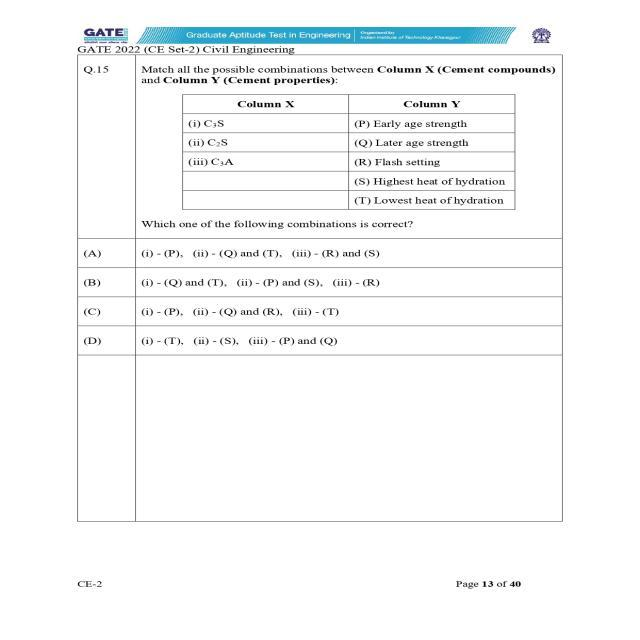Answer_Block: (79, 242, 562, 358)
Question_Answer_Block: (77, 56, 562, 358)
Question_Block: (79, 57, 560, 239)
Question_Paper_Area: (76, 55, 562, 522)
